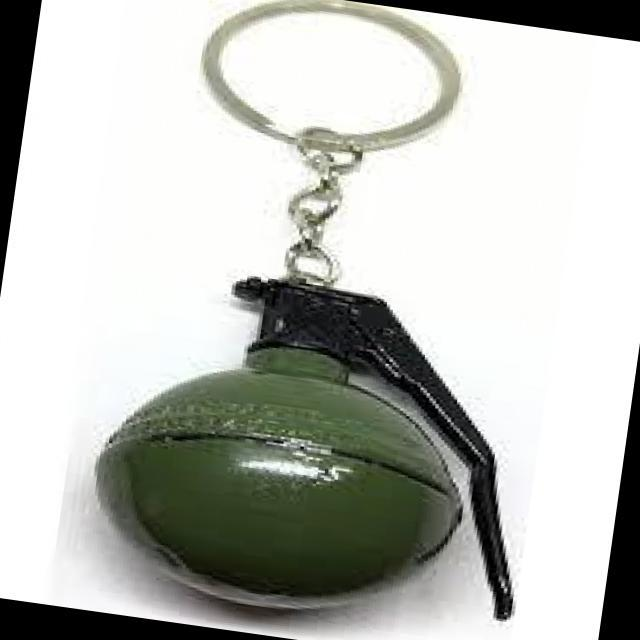grenade: (64, 0, 597, 640)
